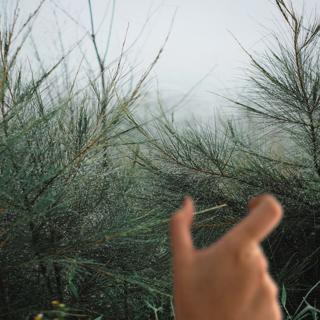HATE: (162, 181, 287, 319)
